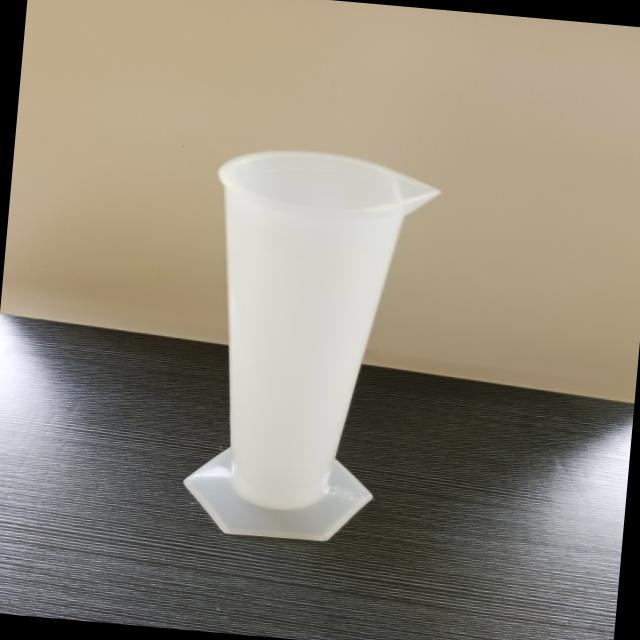graduated_cylinder: (169, 135, 450, 554)
